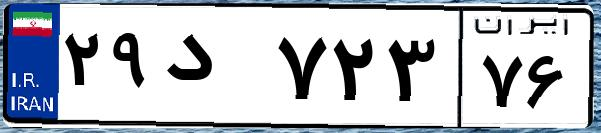2: (330, 28, 385, 110), (57, 26, 110, 100)
3: (385, 28, 445, 110)
6: (525, 38, 570, 115)
7: (270, 28, 330, 110), (475, 38, 525, 113)
9: (110, 28, 158, 98)
د: (158, 20, 270, 120)
